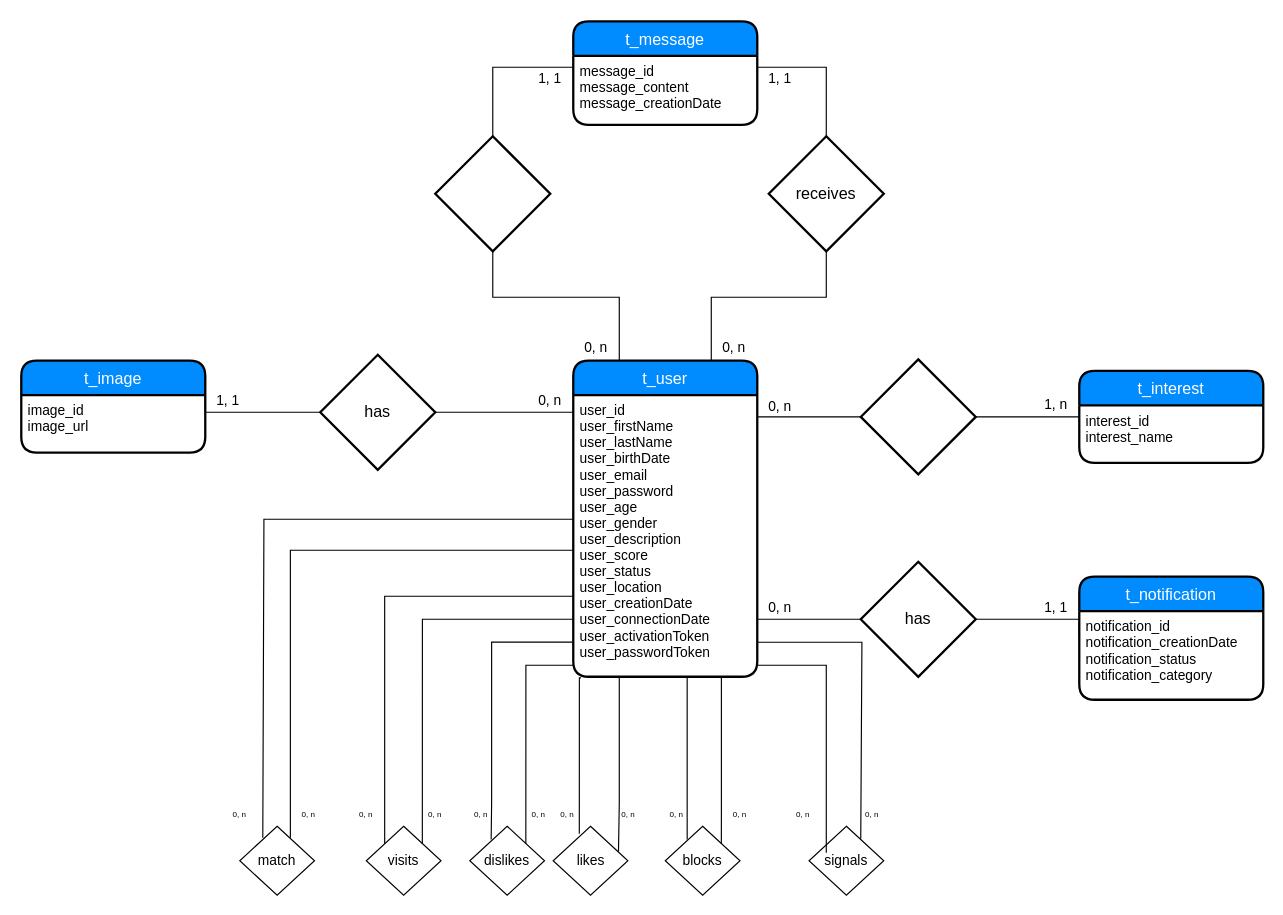
Some shapes in this 1283 by 915 pixel diagram are drawn without their labels. The centre of each missing label's shape, as x and y in pixels:
"chooses" goes at point 917,416.
"sends" goes at point 492,193.
